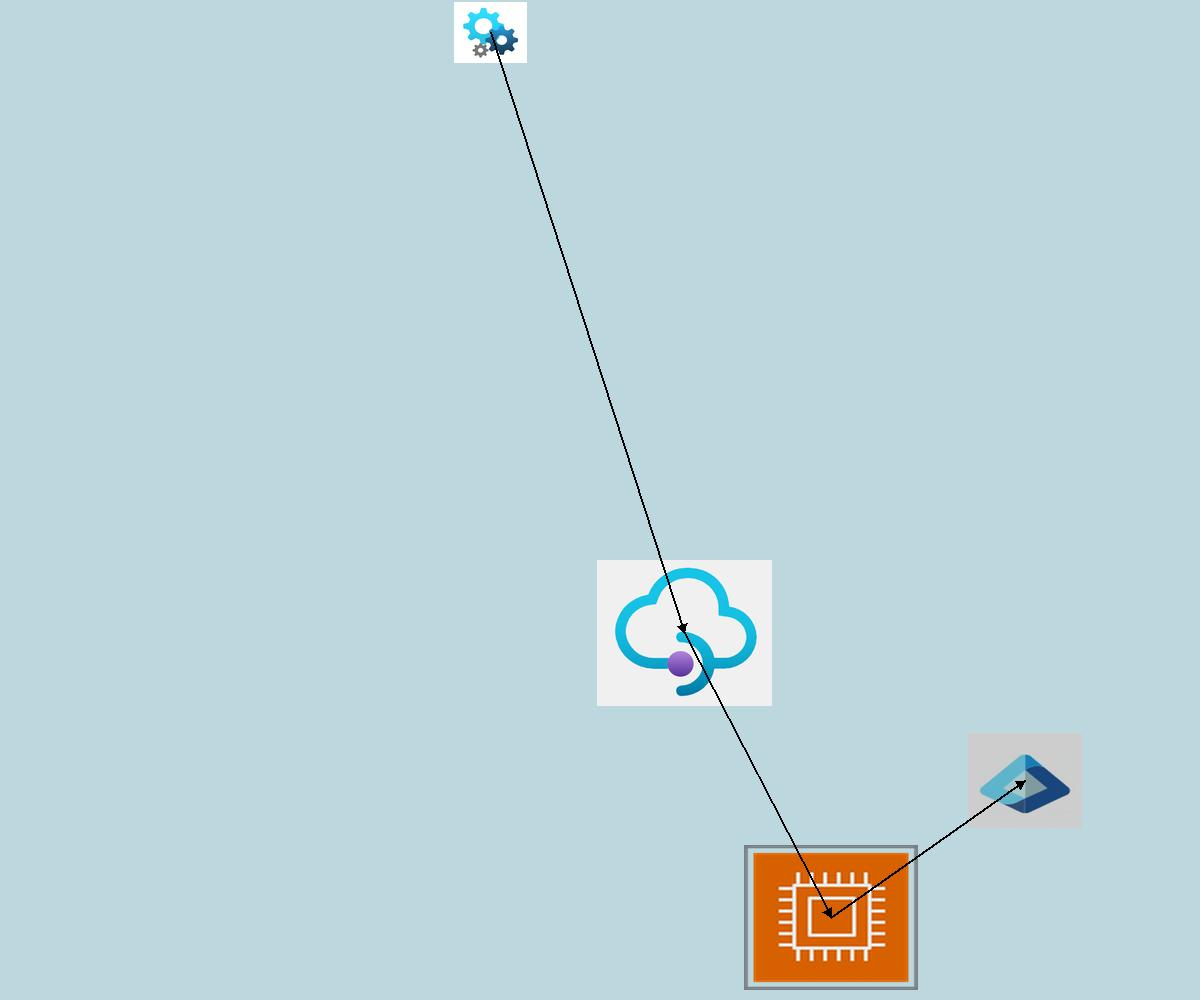AWS-Category_Compute: (744, 845, 918, 990)
Azure_api: (454, 2, 527, 63)
Azure_api_gateway: (597, 560, 772, 706)
Azure_microsoft_entra: (968, 733, 1082, 828)
